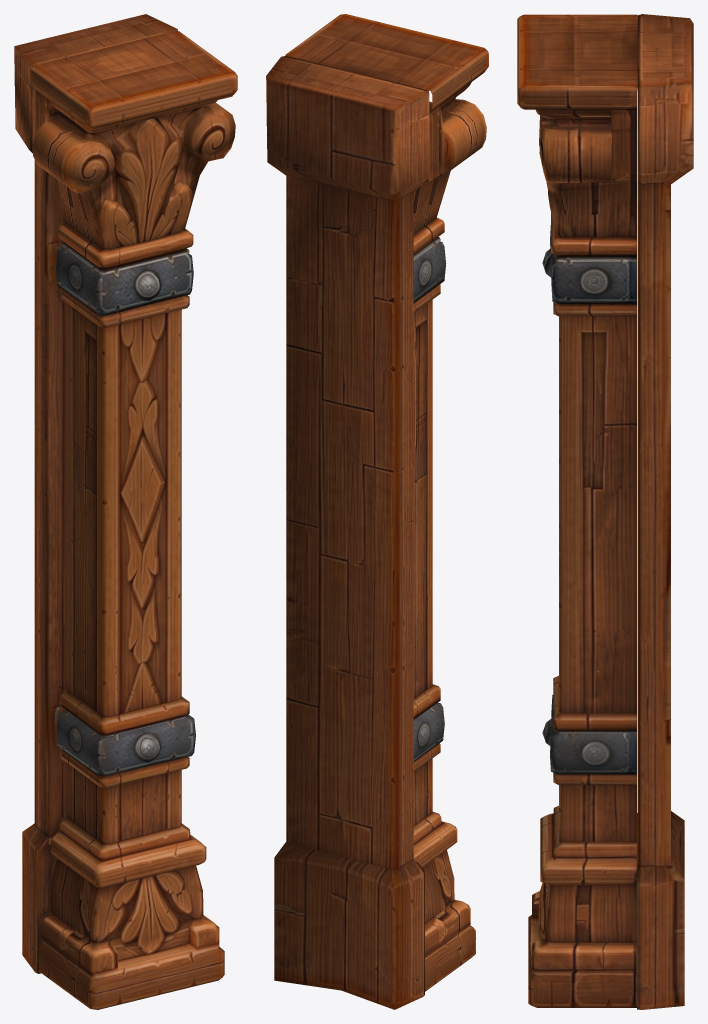
Rendered from cabin_pillar.glb.
3 renders of one model, left to right at view 1: azimuth 30°, elevation 25°; view 2: azimuth 150°, elevation 25°; view 3: azimuth 270°, elevation 25°, orthographic. The views are drawn at different scales.
Parts seen in each view (by area): view 1: c4754c18_d04b_4c3e_a8bd_e88d814b6f08; view 2: c4754c18_d04b_4c3e_a8bd_e88d814b6f08; view 3: c4754c18_d04b_4c3e_a8bd_e88d814b6f08.
Boxes of the visible parts, x1=… form: c4754c18_d04b_4c3e_a8bd_e88d814b6f08: x1=14, y1=14, x2=237, y2=1009; c4754c18_d04b_4c3e_a8bd_e88d814b6f08: x1=266, y1=14, x2=488, y2=1009; c4754c18_d04b_4c3e_a8bd_e88d814b6f08: x1=517, y1=14, x2=693, y2=1009.
Bounding box in the file's own units: 0.1987 × 0.9995 × 0.1724.
1 material, 1 textured.
